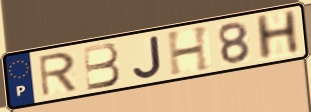8: (217, 20, 253, 66)
B: (81, 41, 123, 92)
H: (252, 7, 302, 63), (164, 23, 212, 78)
J: (131, 34, 164, 80)
R: (36, 51, 80, 99)
